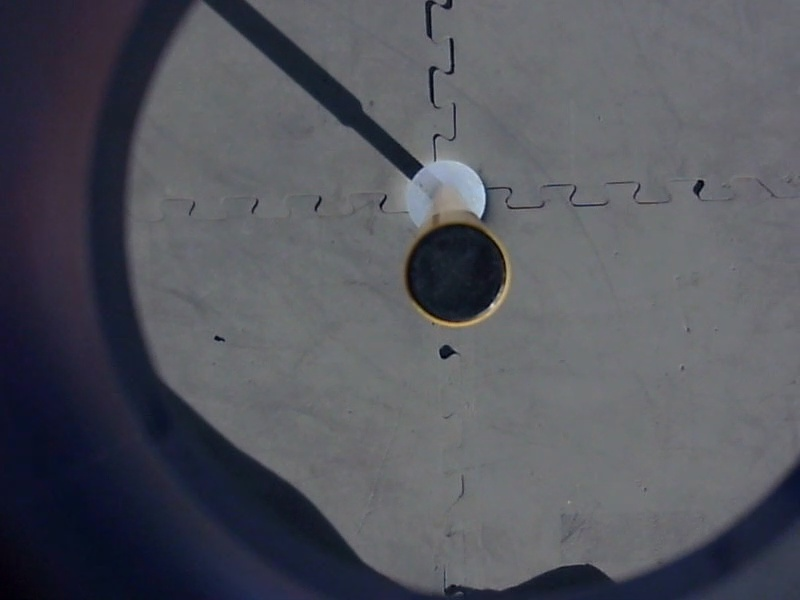tip: (393, 212, 520, 337)
